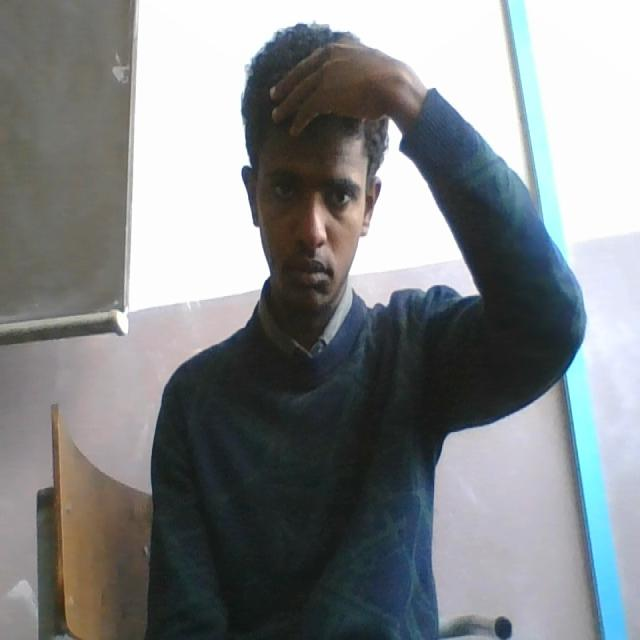mengist: (236, 23, 404, 179)
